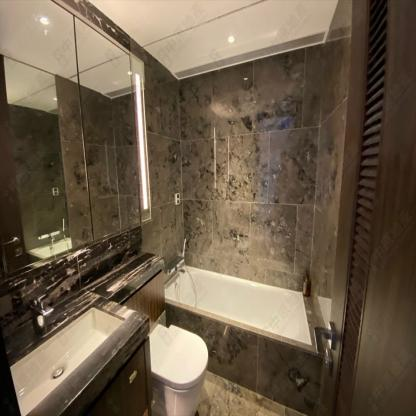Bathtub: (164, 265, 312, 347)
Faucet: (28, 292, 49, 334)
Toilet: (148, 323, 210, 415)
Toilet Sink: (10, 307, 127, 415)
